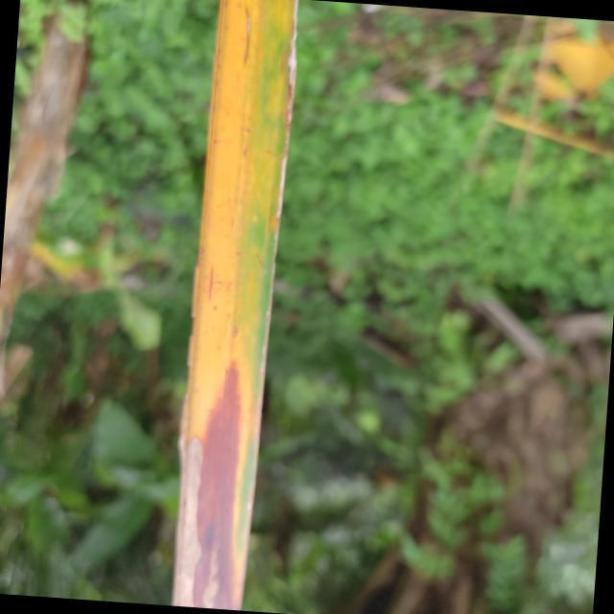Megnesium: (177, 0, 296, 614)
